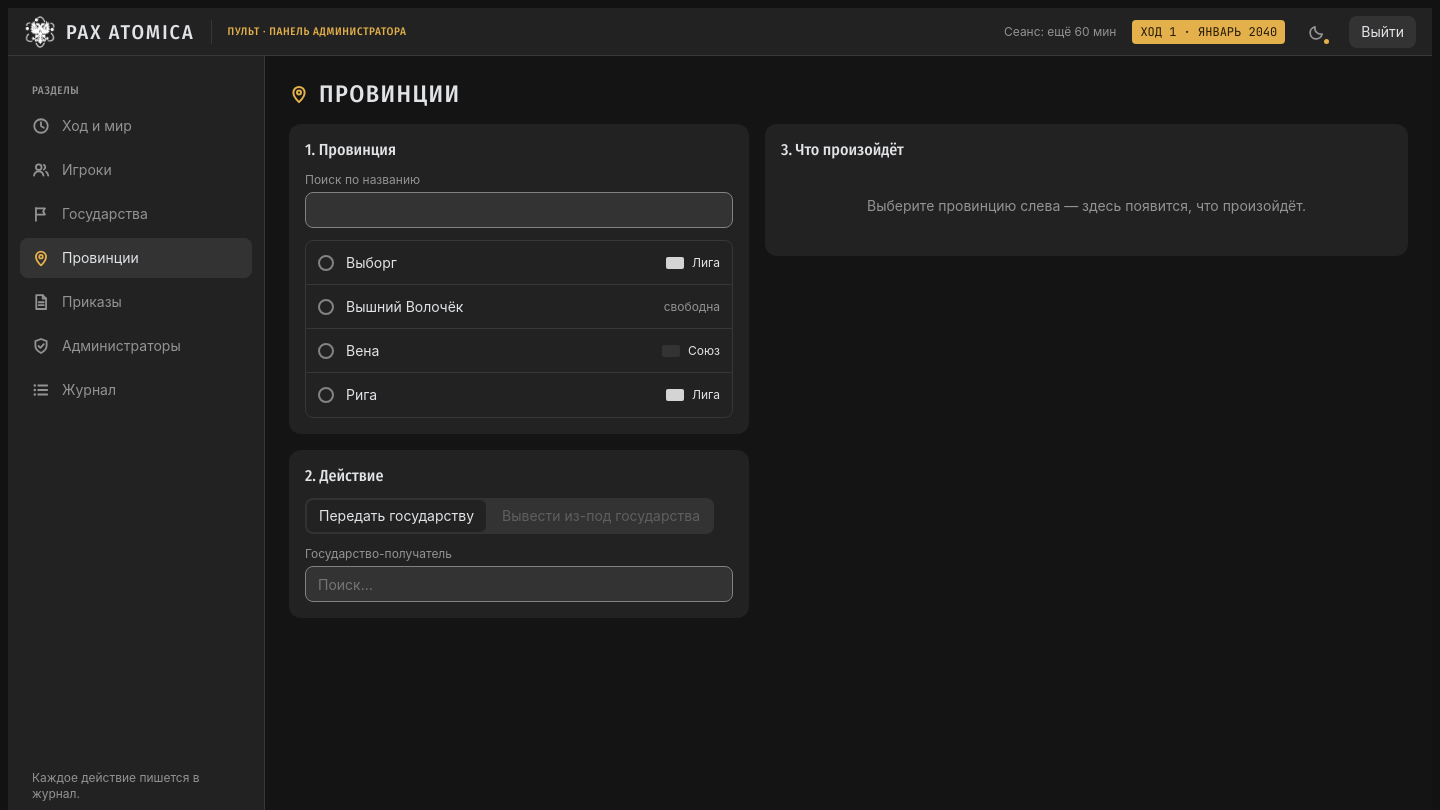
it: shows the bordered LAST_PROVINCE refusal (screen 04c)
The image size is (1440, 810).
Expected: the element with test id "province-list" is shown, left=305, top=240, right=733, bottom=418
Click the button with test id "province-row-203" at [363, 350], box left=306, top=329, right=732, bottom=373
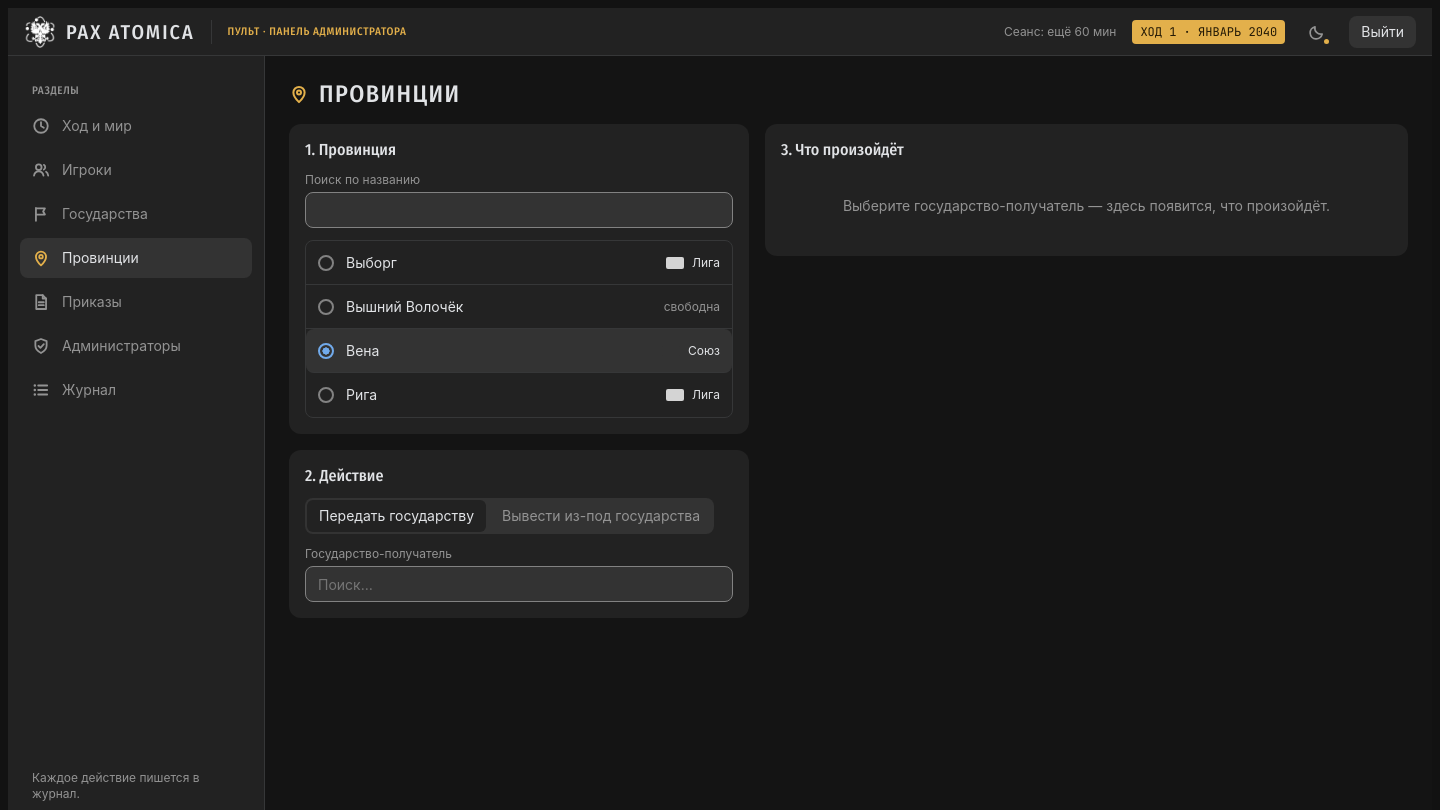
Click the button with test id "action-withdraw" at [601, 516], box left=490, top=500, right=712, bottom=532
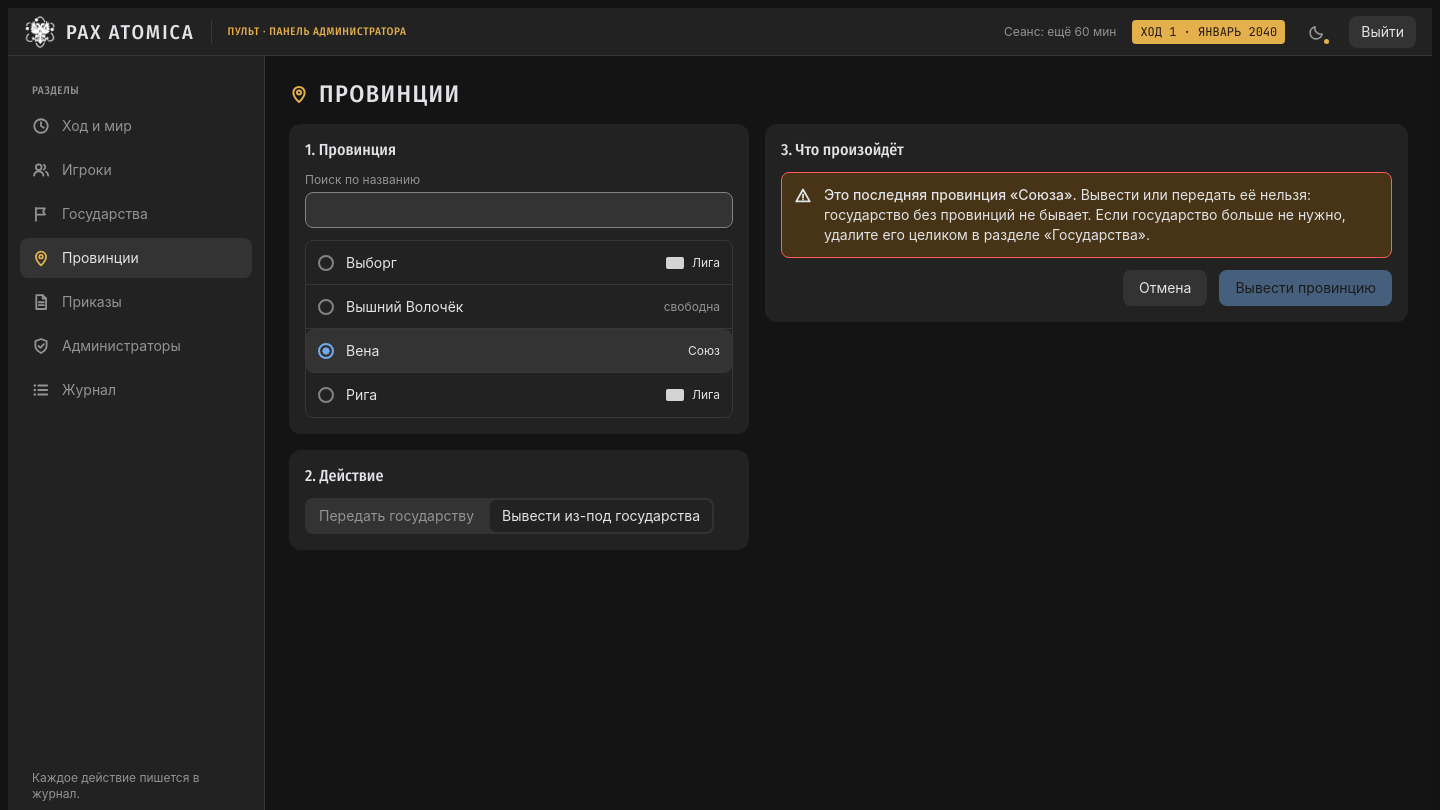
Result: the element with test id "preview-blocker" shows "Это последняя провинция «Союза»." at left=824, top=186, right=1077, bottom=203
Result: the element with test id "preview-blocker" shows "удалите его целиком в разделе «Государства»." at left=824, top=186, right=1346, bottom=243
Result: the button with test id "province-submit" is disabled at left=1219, top=270, right=1392, bottom=306
